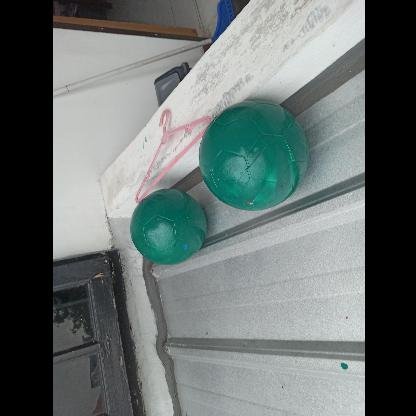green_ball: (198, 102, 310, 212), (126, 191, 204, 268)
